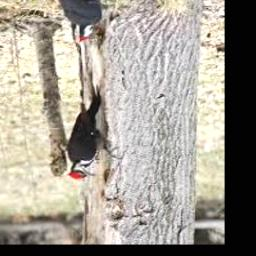Woodpecker: (67, 85, 121, 179), (57, 0, 116, 42)
